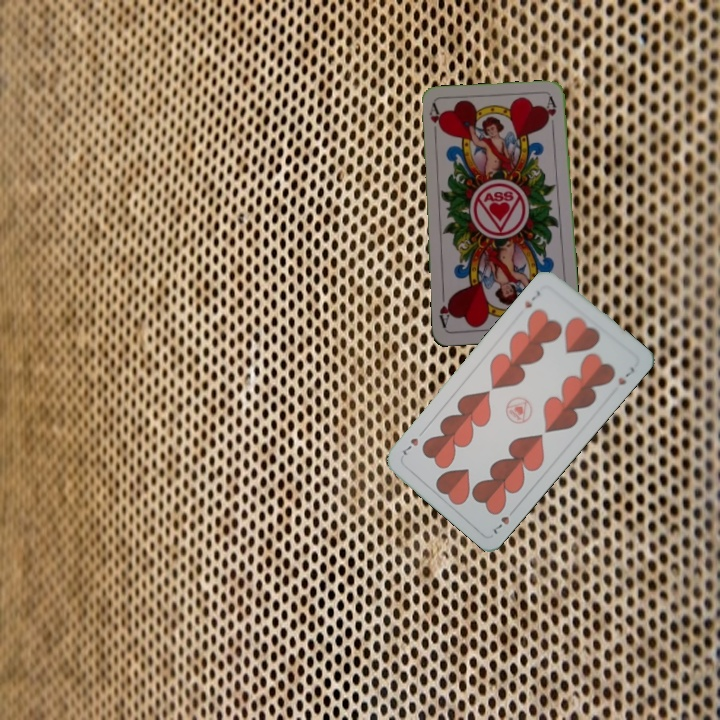H7: (488, 512, 512, 537), (520, 286, 543, 311)
HA: (425, 101, 444, 141)
